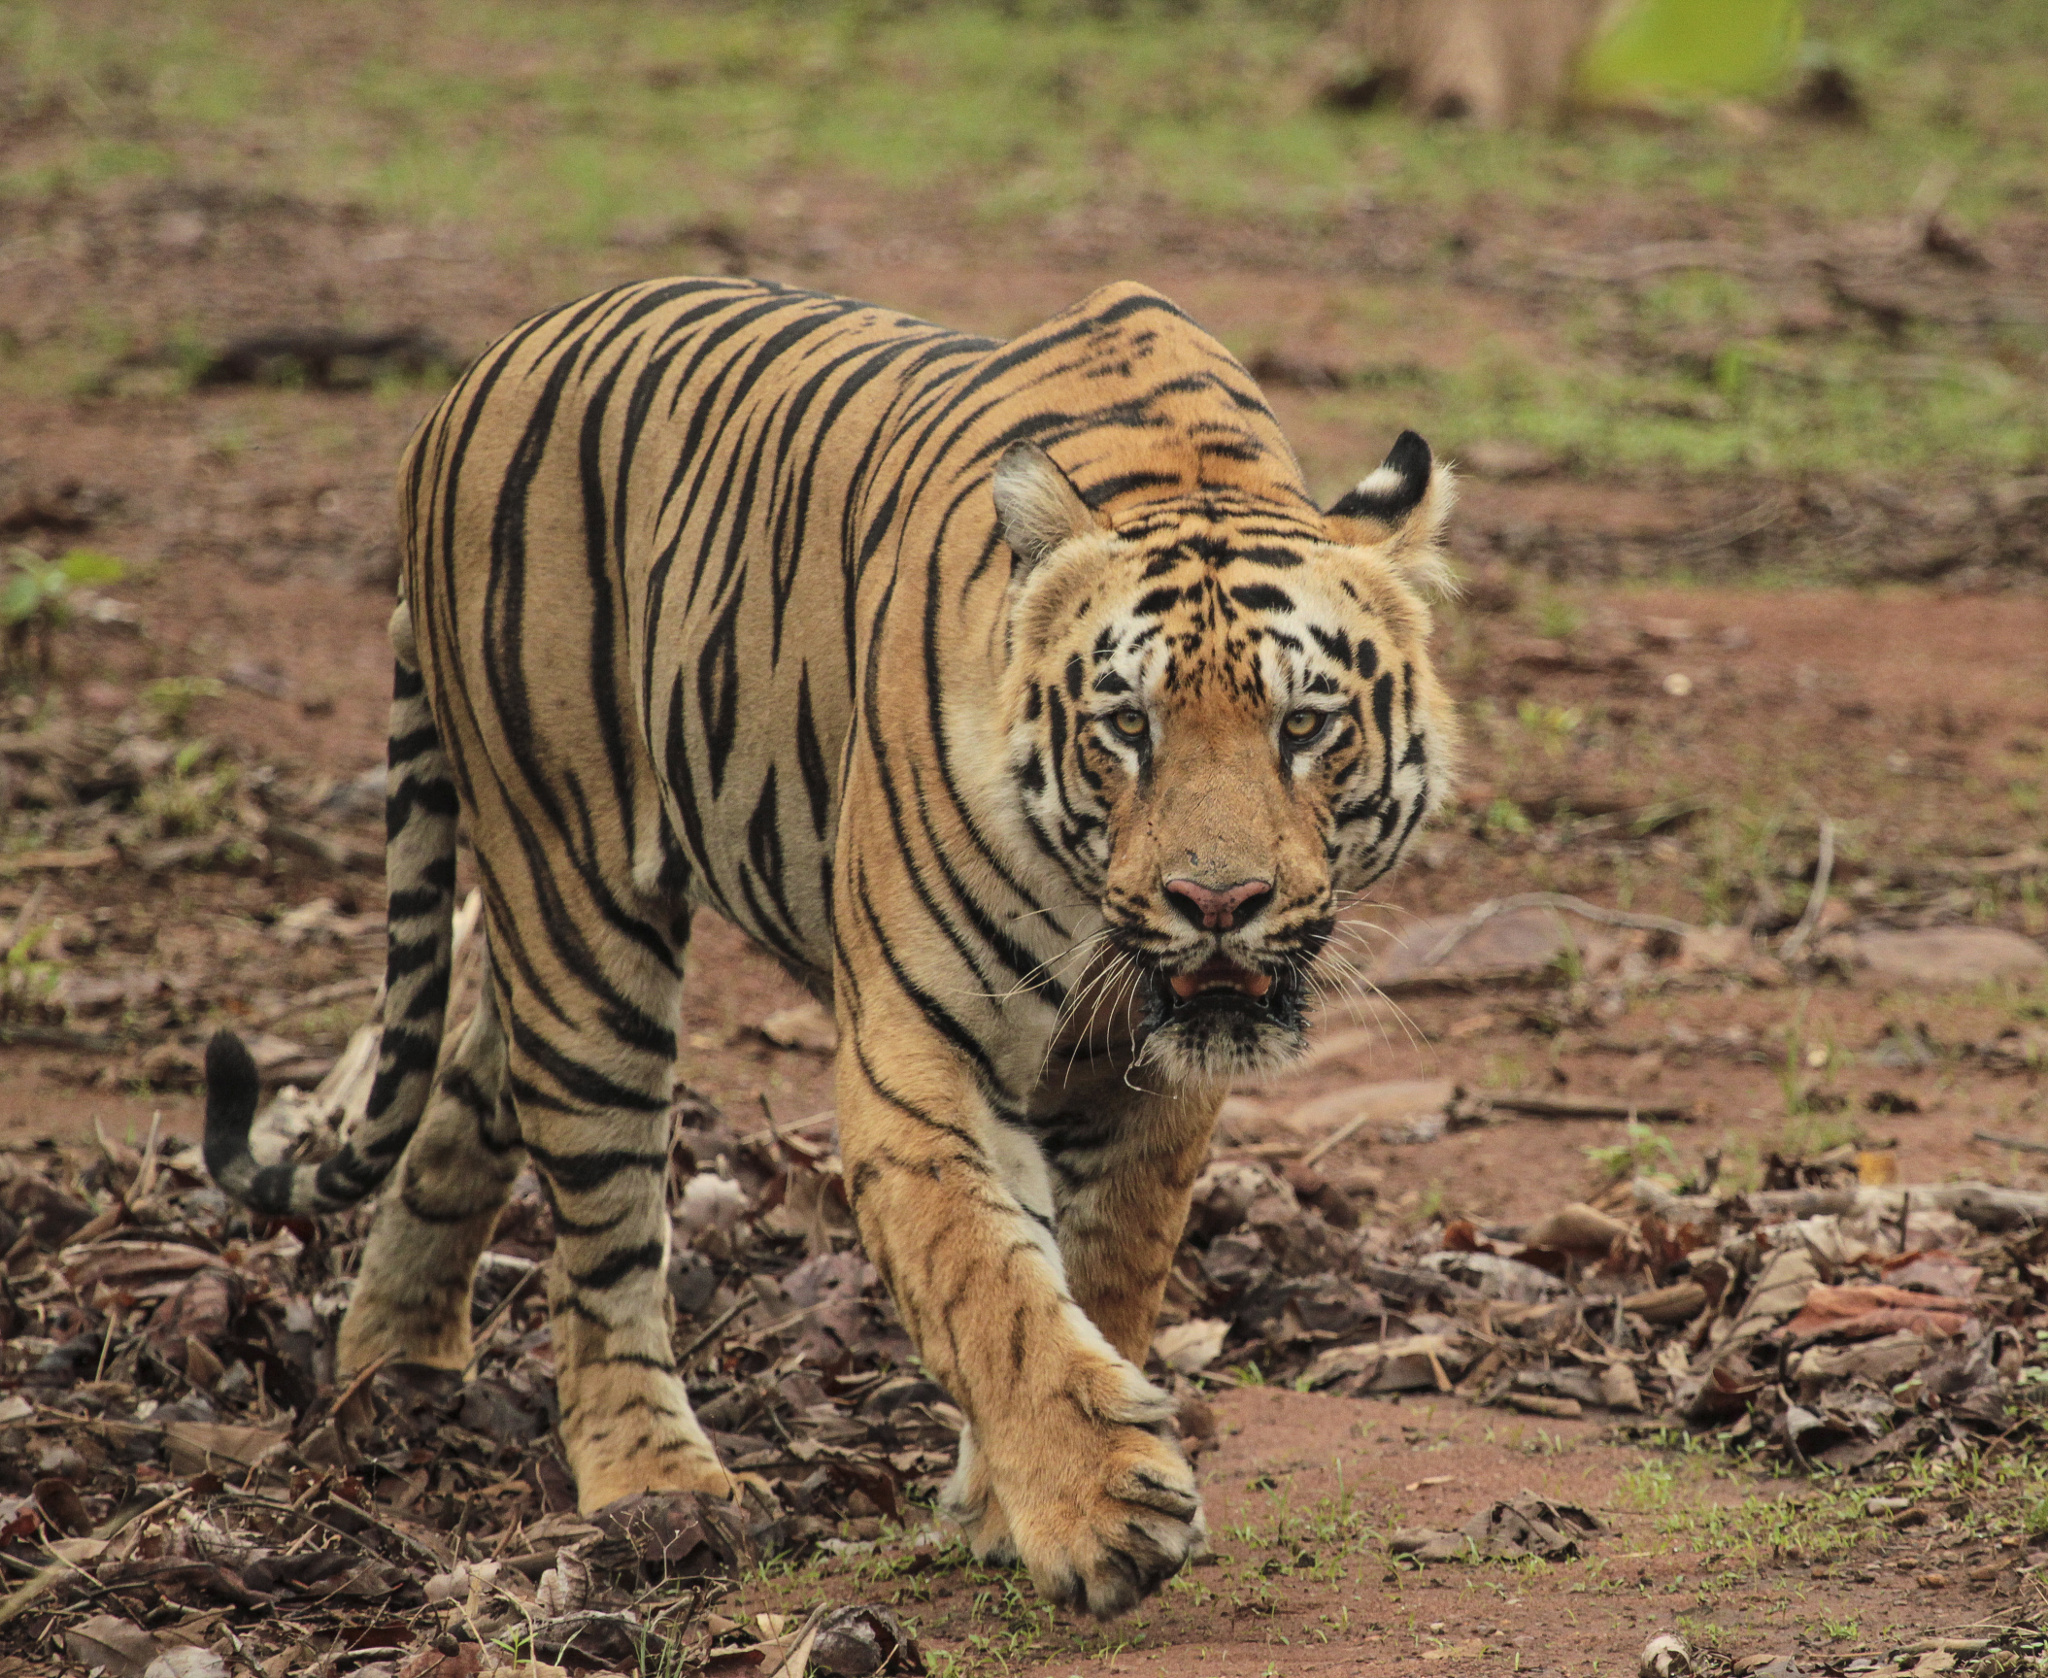tiger: (398, 284, 1446, 1656)
